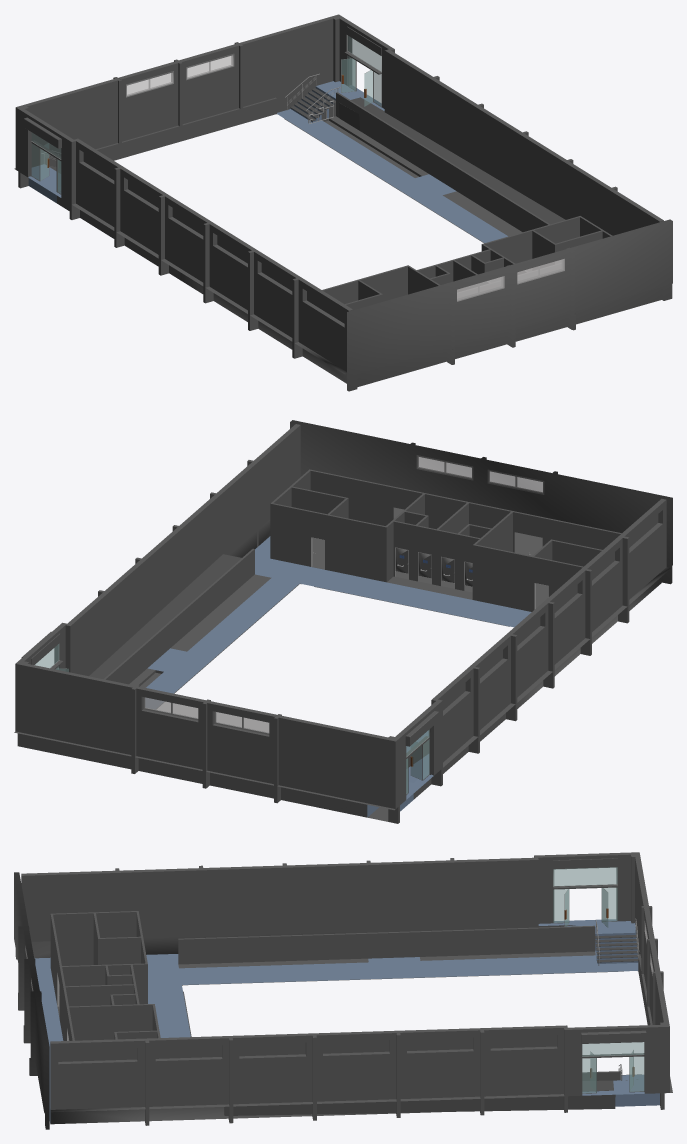
Rendered from walls.fbx.
The picture shows the model from 3 angles, top to bottom: view 1: azimuth 30°, elevation 25°; view 2: azimuth 150°, elevation 25°; view 3: azimuth 270°, elevation 25°; orthographic projection. The views are drawn at different scales.
Visible parts, largest first — view 1: stadium.007, stadium.002, stadium.003, stadium.001; view 2: stadium.007, stadium.003, stadium.002, stadium.001; view 3: stadium.007, stadium.001, stadium.002, stadium.003.
Part boxes in pixels (x1,y1,x2,y2): stadium.007: (14, 16, 663, 383); stadium.002: (347, 219, 672, 391); stadium.003: (15, 14, 341, 170); stadium.001: (28, 81, 507, 242); stadium.007: (14, 424, 670, 823); stadium.003: (15, 662, 398, 808); stadium.002: (290, 420, 672, 584); stadium.001: (145, 536, 531, 817); stadium.007: (21, 852, 672, 1125); stadium.001: (34, 918, 659, 1122); stadium.002: (14, 872, 49, 1129); stadium.003: (634, 852, 669, 1093).
Bounding box in the file's own units: 493 × 100 × 701.
Materials: 9 (3 with a texture image).
